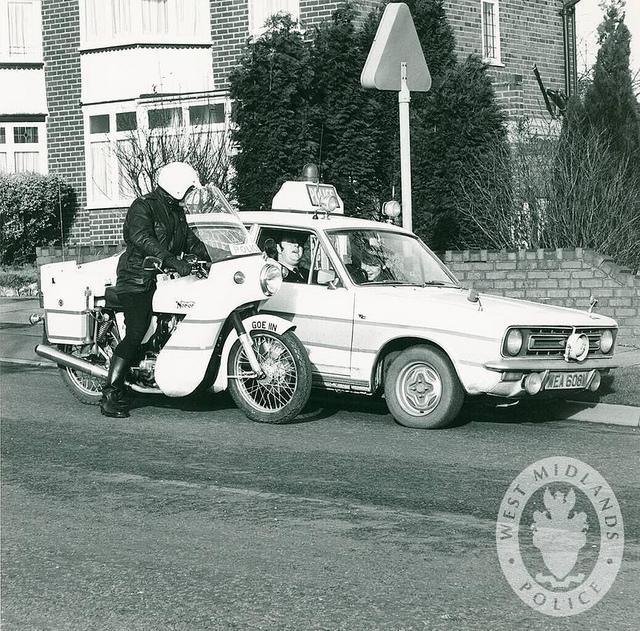car: (183, 161, 622, 429)
motorcycle: (28, 187, 312, 423)
